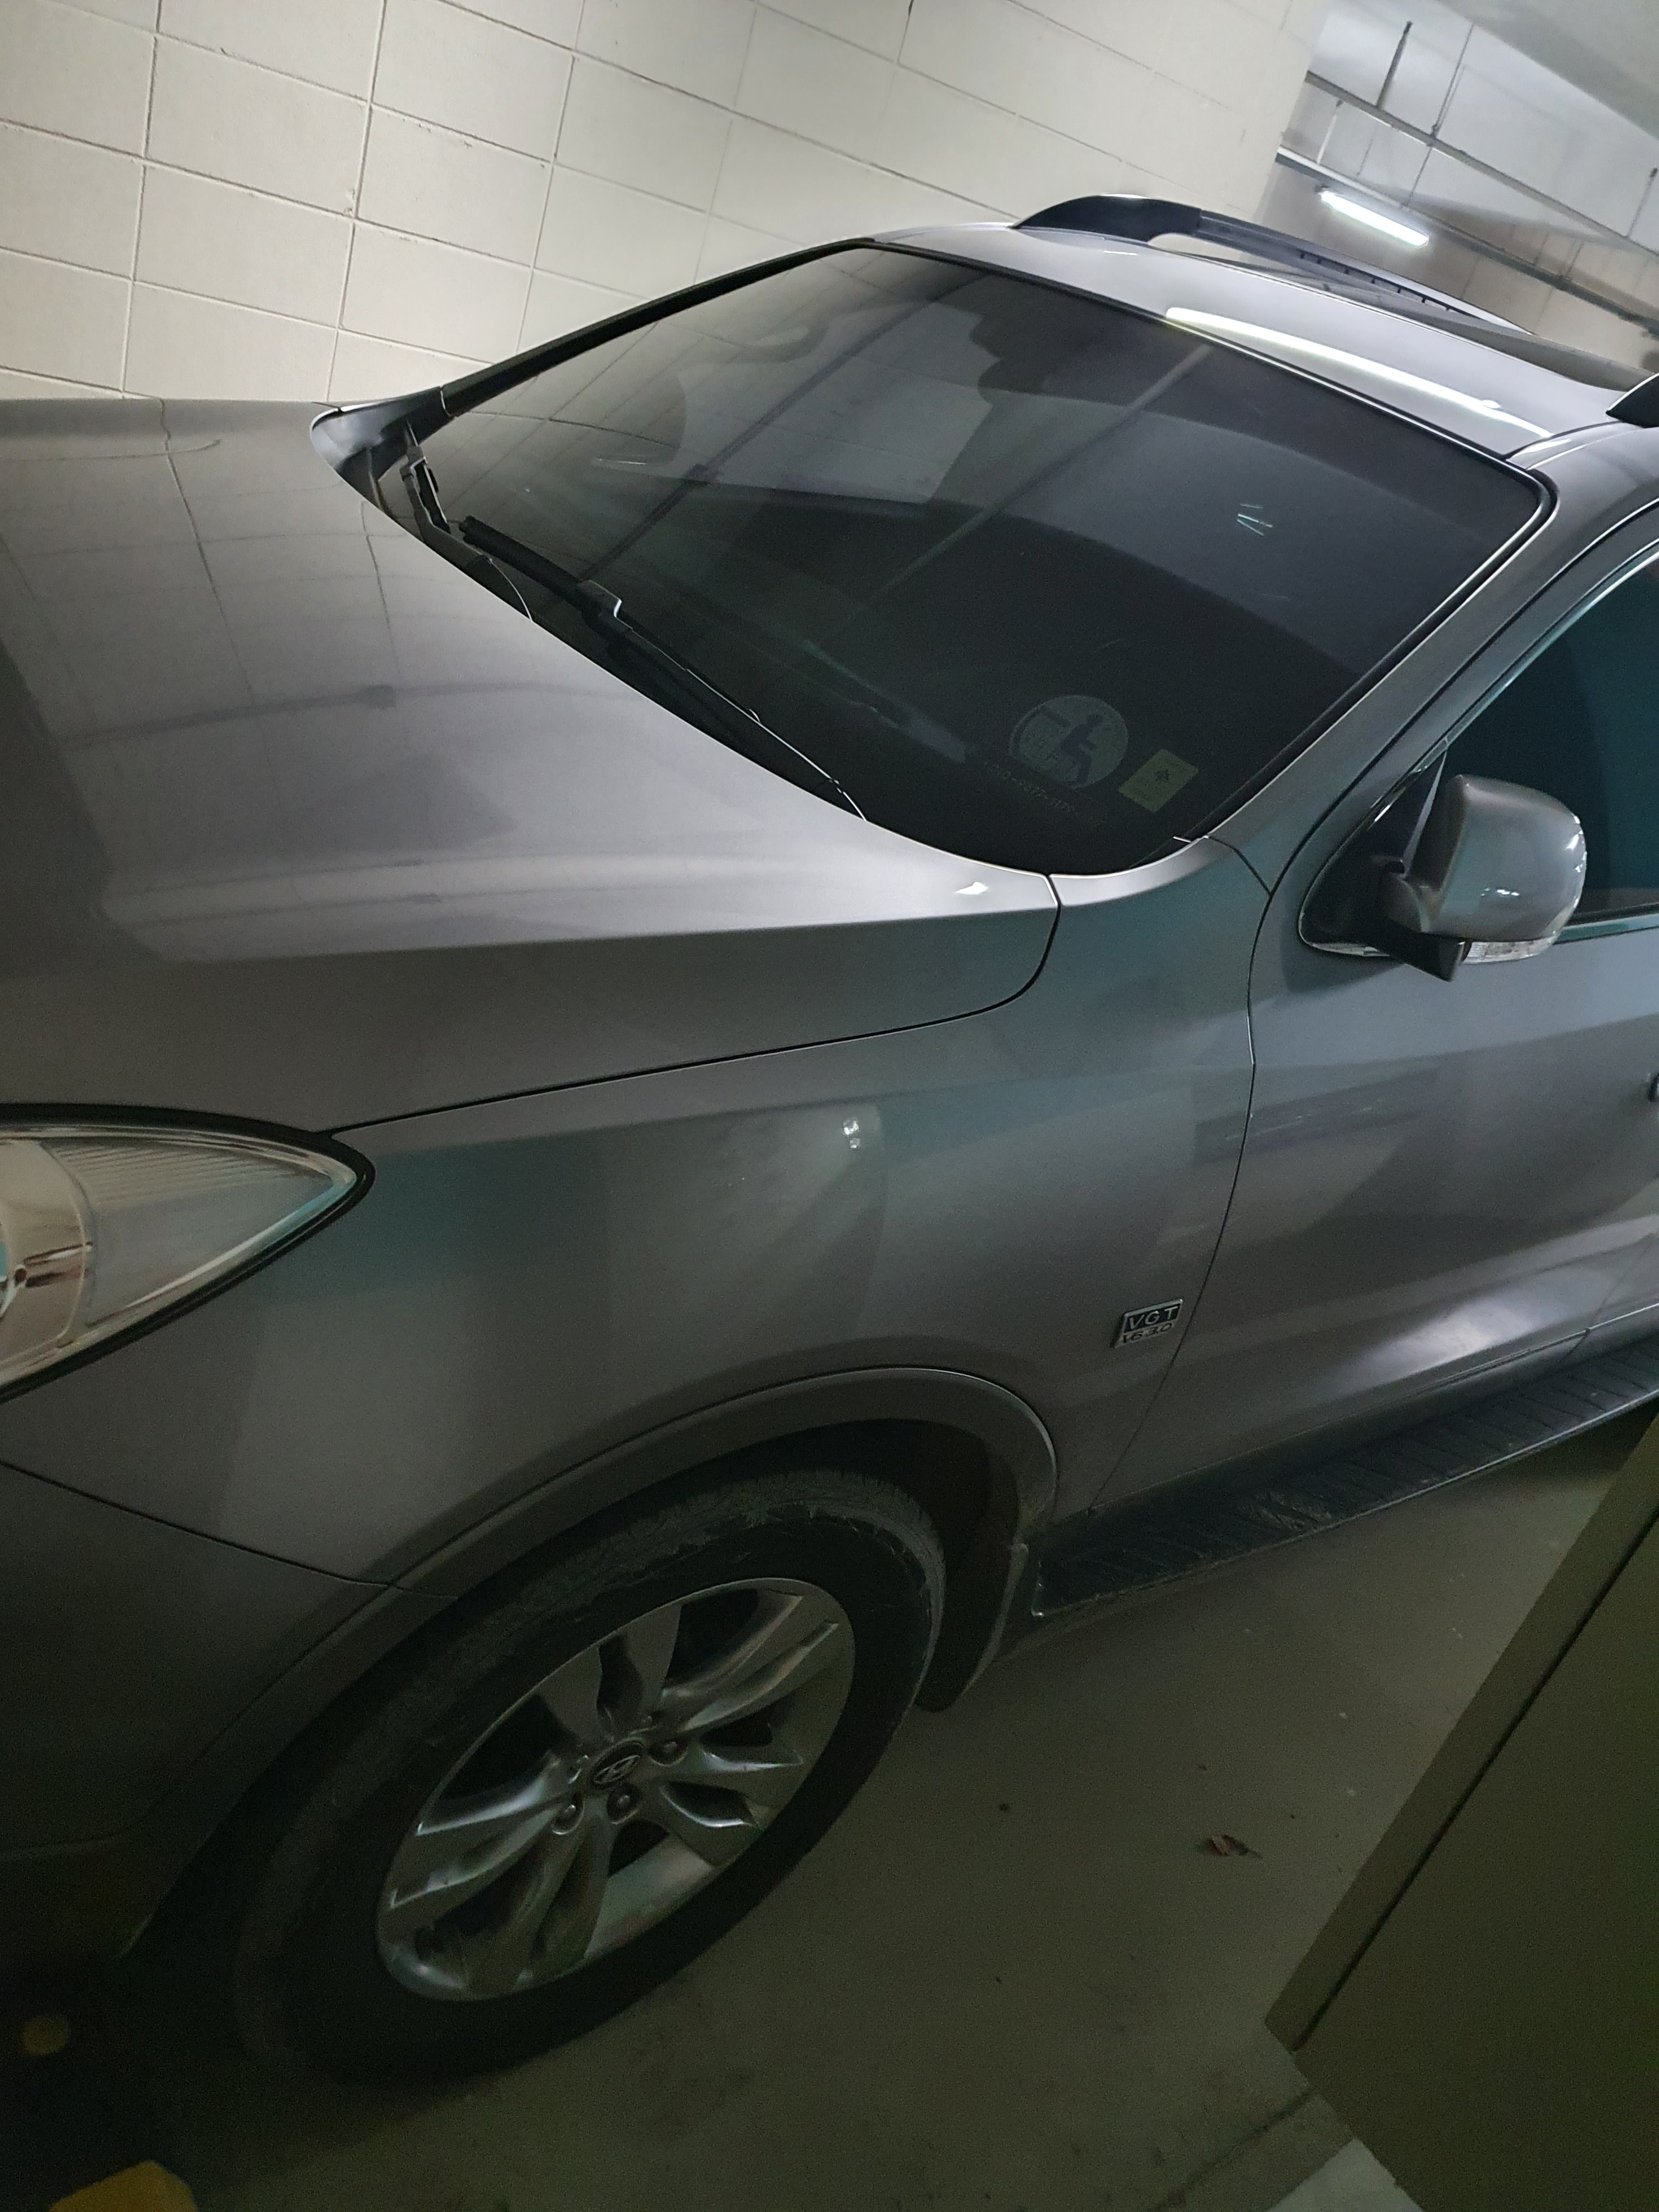disabled_parking: (1000, 683, 1131, 791)
etc: (1122, 747, 1204, 822)
